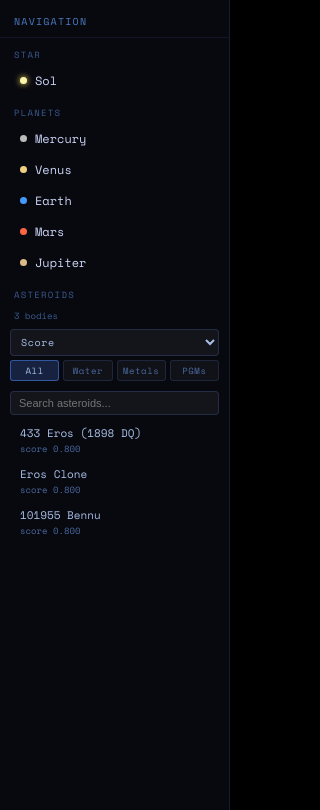
Test case: NavigationSidebar › resource filter › resource filter and name search apply together
Click the button "Metals" at (141, 370), box [116,360,166,381]
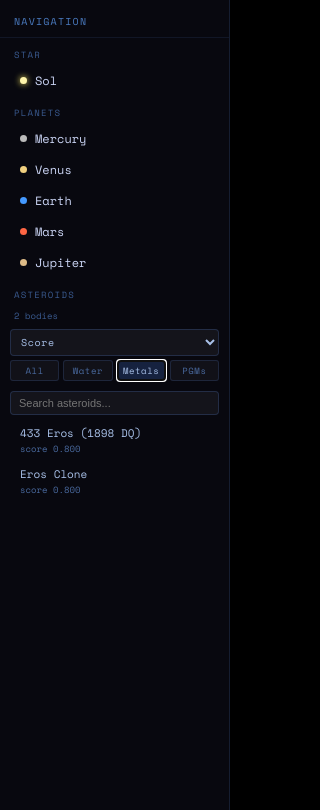
Type "Clone" into the search field at (114, 403), box [10,391,219,415]
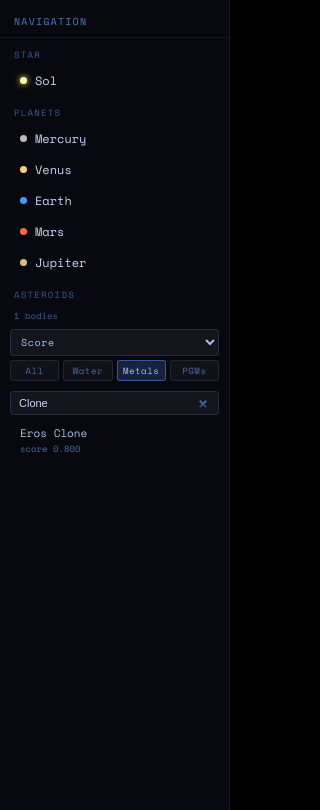
Check: the text "Eros Clone" is shown, box [20,425,87,441]
Check: the text "433 Eros" is gone
